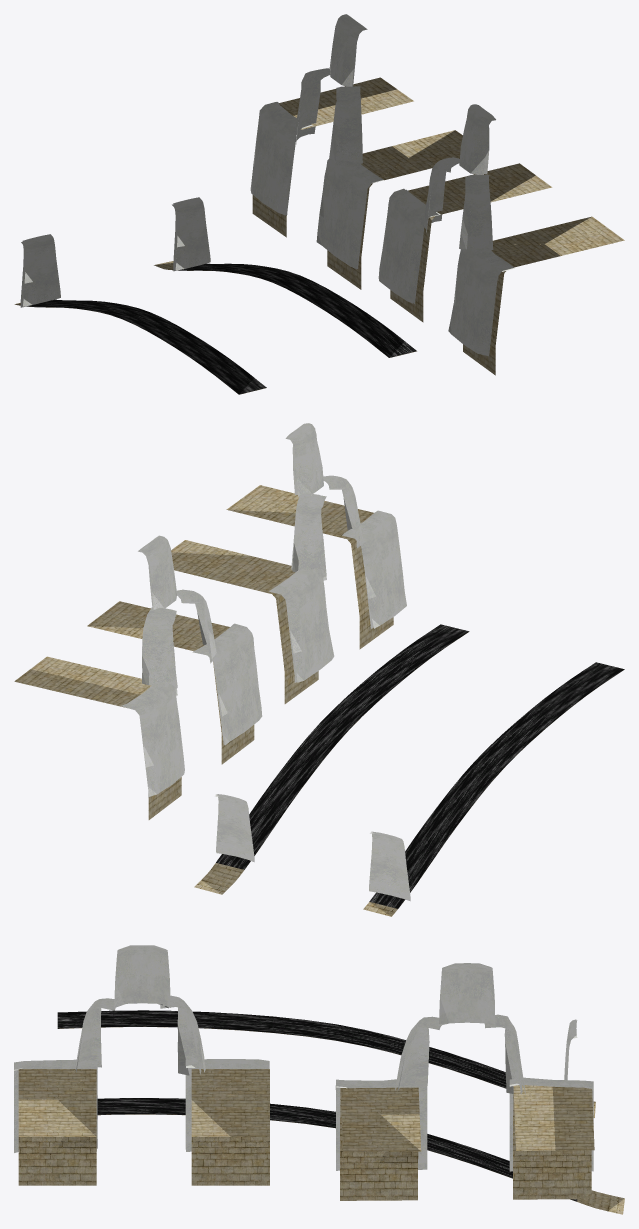
The model's file is stg110_MotWater_03.obj.
3 views of the same model, one above another, from view 1: azimuth 30°, elevation 25°; view 2: azimuth 150°, elevation 25°; view 3: azimuth 270°, elevation 25° (orthographic). The views are drawn at different scales.
Parts seen in each view (by area): view 1: polygon10, polygon8, polygon7, polygon6, polygon5, polygon0, polygon2, polygon11, polygon9; view 2: polygon7, polygon10, polygon8, polygon6, polygon5, polygon1, polygon3, polygon9, polygon4, polygon11; view 3: polygon6, polygon5, polygon7, polygon11, polygon9, polygon10, polygon8, polygon4.
Boxes of the visible parts, <box> form: polygon10: <box>250,14,383,269</box>; polygon8: <box>378,104,514,355</box>; polygon7: <box>20,263,416,394</box>; polygon6: <box>390,163,624,375</box>; polygon5: <box>252,77,462,289</box>; polygon0: <box>22,234,59,306</box>; polygon2: <box>173,197,209,270</box>; polygon11: <box>277,14,383,268</box>; polygon9: <box>390,104,514,356</box>; polygon7: <box>216,624,624,908</box>; polygon10: <box>123,535,262,796</box>; polygon8: <box>271,423,406,682</box>; polygon6: <box>171,485,393,703</box>; polygon5: <box>14,601,254,819</box>; polygon1: <box>369,832,410,901</box>; polygon3: <box>215,795,254,862</box>; polygon9: <box>269,423,373,682</box>; polygon4: <box>194,632,599,916</box>; polygon11: <box>121,536,224,797</box>; polygon6: <box>18,1069,269,1185</box>; polygon5: <box>340,1085,594,1200</box>; polygon7: <box>57,1010,577,1201</box>; polygon11: <box>336,966,593,1171</box>; polygon9: <box>14,947,269,1152</box>; polygon10: <box>335,963,593,1094</box>; polygon8: <box>14,945,269,1149</box>; polygon4: <box>59,1026,624,1214</box>.
Bounding box in the file's own units: 544 × 378 × 643.
